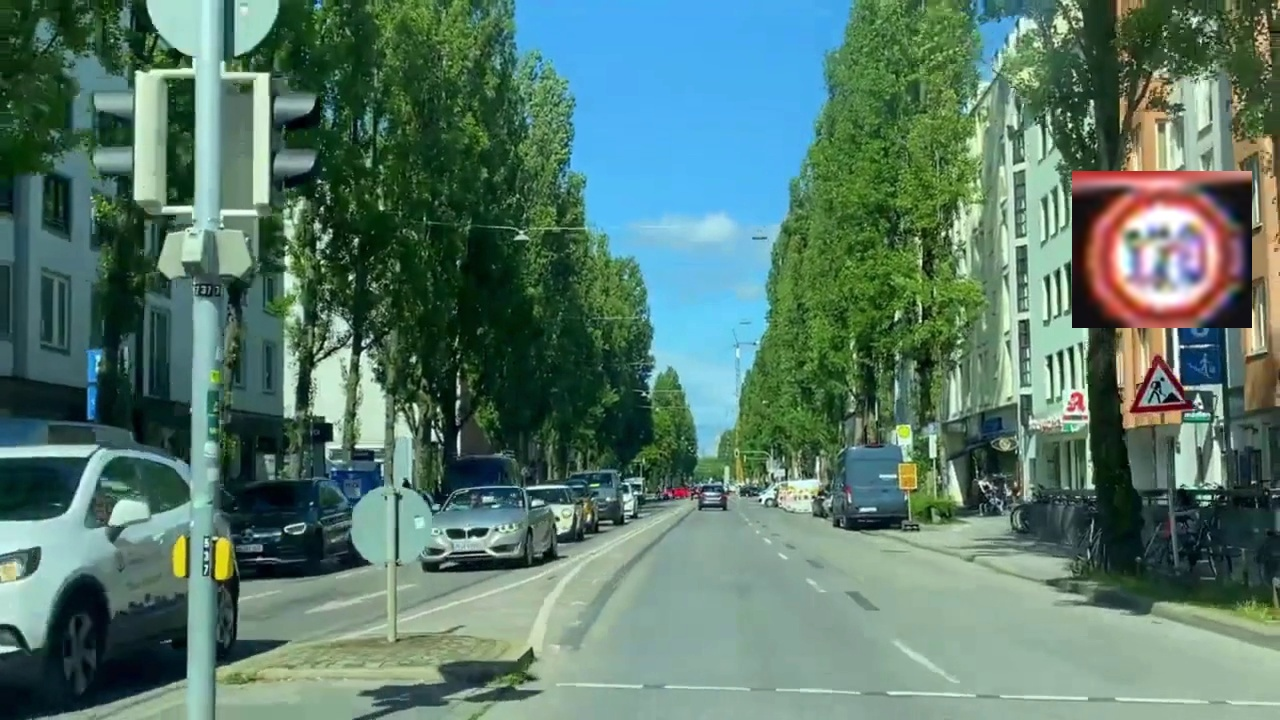Speed 120: (1072, 171, 1252, 328)
